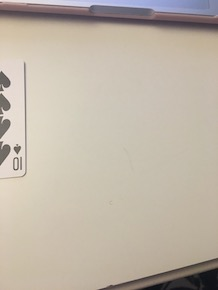TenOfSpades: (1, 59, 31, 179)
